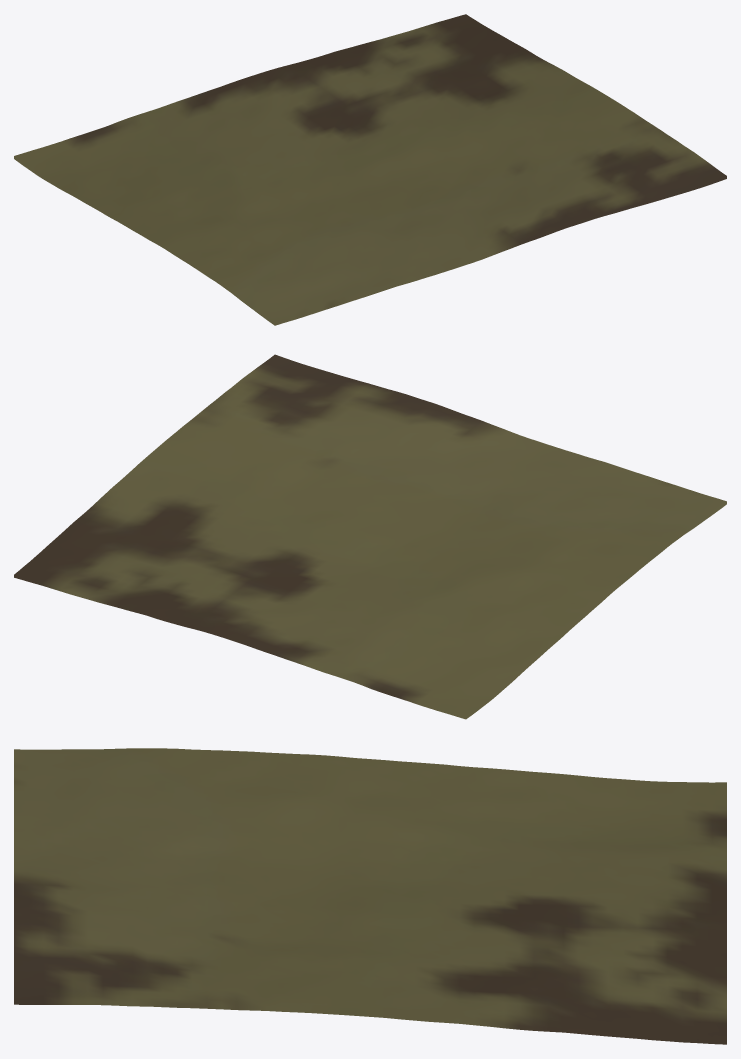
Rendered from land_m_15_10.glb.
The picture shows the model from 3 angles, top to bottom: view 1: azimuth 30°, elevation 25°; view 2: azimuth 150°, elevation 25°; view 3: azimuth 270°, elevation 25°; orthographic projection. The views are drawn at different scales.
Parts seen in each view (by area): view 1: land_m_15_10; view 2: land_m_15_10; view 3: land_m_15_10.
Part boxes in pixels (left/top/right/bottom): land_m_15_10: left=14, top=14, right=726, bottom=325; land_m_15_10: left=14, top=354, right=726, bottom=719; land_m_15_10: left=14, top=748, right=726, bottom=1044.
Size of the model in its own units: 960 by 130 by 960.
